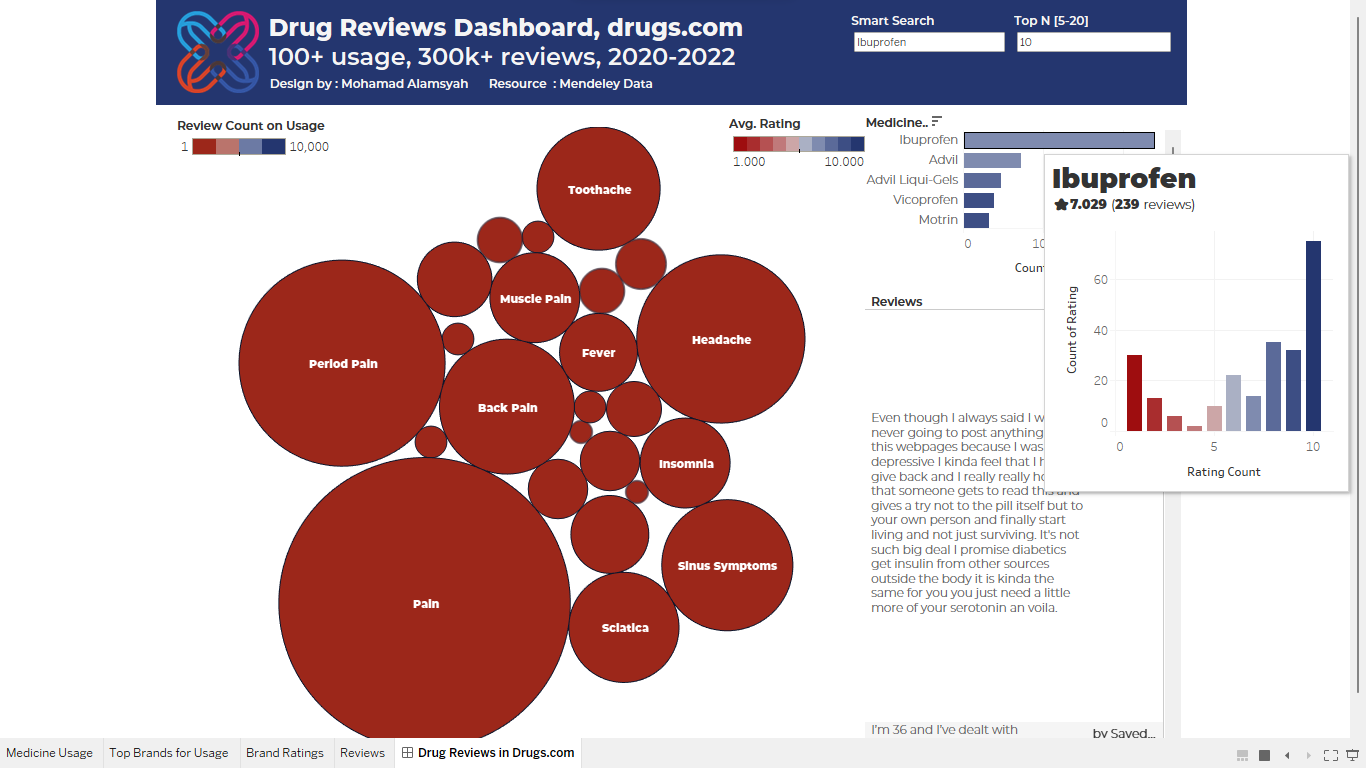

This screenshot's page, from the dashboard's own definition file:
{"tool":"tableau","page":{"name":"drug-reviews-bigquery","canvas":[1000,800],"ordinal":0},"visuals":[{"type":"text","box":[92,10,523,68]},{"type":"image","param":"C:/Users/acer/Downloads/PROJECTS-2.0/DrugReviews/drugscom-logomark-112x112.png","box":[11,14,78,83]},{"type":"parameter","param":"[Parameters].[Parameter 2]","box":[807,14,159,67]},{"type":"parameter","param":"[Parameters].[Parameter 1]","box":[619,15,151,44]},{"type":"text","box":[620,56,180,45]},{"type":"text","box":[819,62,134,33]},{"type":"text","box":[93,68,440,32]},{"type":"worksheet","title":"Top Brands by Usage","mark":"Automatic","rows":["MedicineBrandName"],"cols":["Reviews"],"box":[605,100,388,215]},{"type":"legend","title":"Medicine Usage","param":"[federated.18pzkps1q4mk2b1e8keax0oiqh2z].[cnt:MedicineUsedFor:qk]","box":[18,115,168,76]},{"type":"legend","title":"Top Brands by Usage","param":"[federated.18pzkps1q4mk2b1e8keax0oiqh2z].[avg:Rating:qk]","box":[357,117,233,76]},{"type":"worksheet","title":"Medicine Usage","mark":"Circle","box":[10,176,591,608]},{"type":"worksheet","title":"Top Generics by Usage","mark":"Automatic","rows":["MedicineGenericName"],"cols":["Reviews"],"box":[606,305,387,214]},{"type":"text","box":[608,525,384,47]},{"type":"worksheet","title":"Reviews","mark":"Automatic","rows":["Reviews"],"box":[605,556,388,234]}]}

Visuals, with their boxes on the page's 1000x800 design canvas (x1, y1, x2, y2). These are canvas units, not pixel positions in the 1366x768 screenshot, which may show the page scaled, cropped or inside an application window:
text: locate(92, 10, 615, 78)
image: locate(11, 14, 89, 97)
parameter: locate(807, 14, 966, 81)
parameter: locate(619, 15, 770, 59)
text: locate(620, 56, 800, 101)
text: locate(819, 62, 953, 95)
text: locate(93, 68, 533, 100)
"Top Brands by Usage" worksheet: locate(605, 100, 993, 315)
"Medicine Usage" legend: locate(18, 115, 186, 191)
"Top Brands by Usage" legend: locate(357, 117, 590, 193)
"Medicine Usage" worksheet (Circle marks): locate(10, 176, 601, 784)
"Top Generics by Usage" worksheet: locate(606, 305, 993, 519)
text: locate(608, 525, 992, 572)
"Reviews" worksheet: locate(605, 556, 993, 790)
